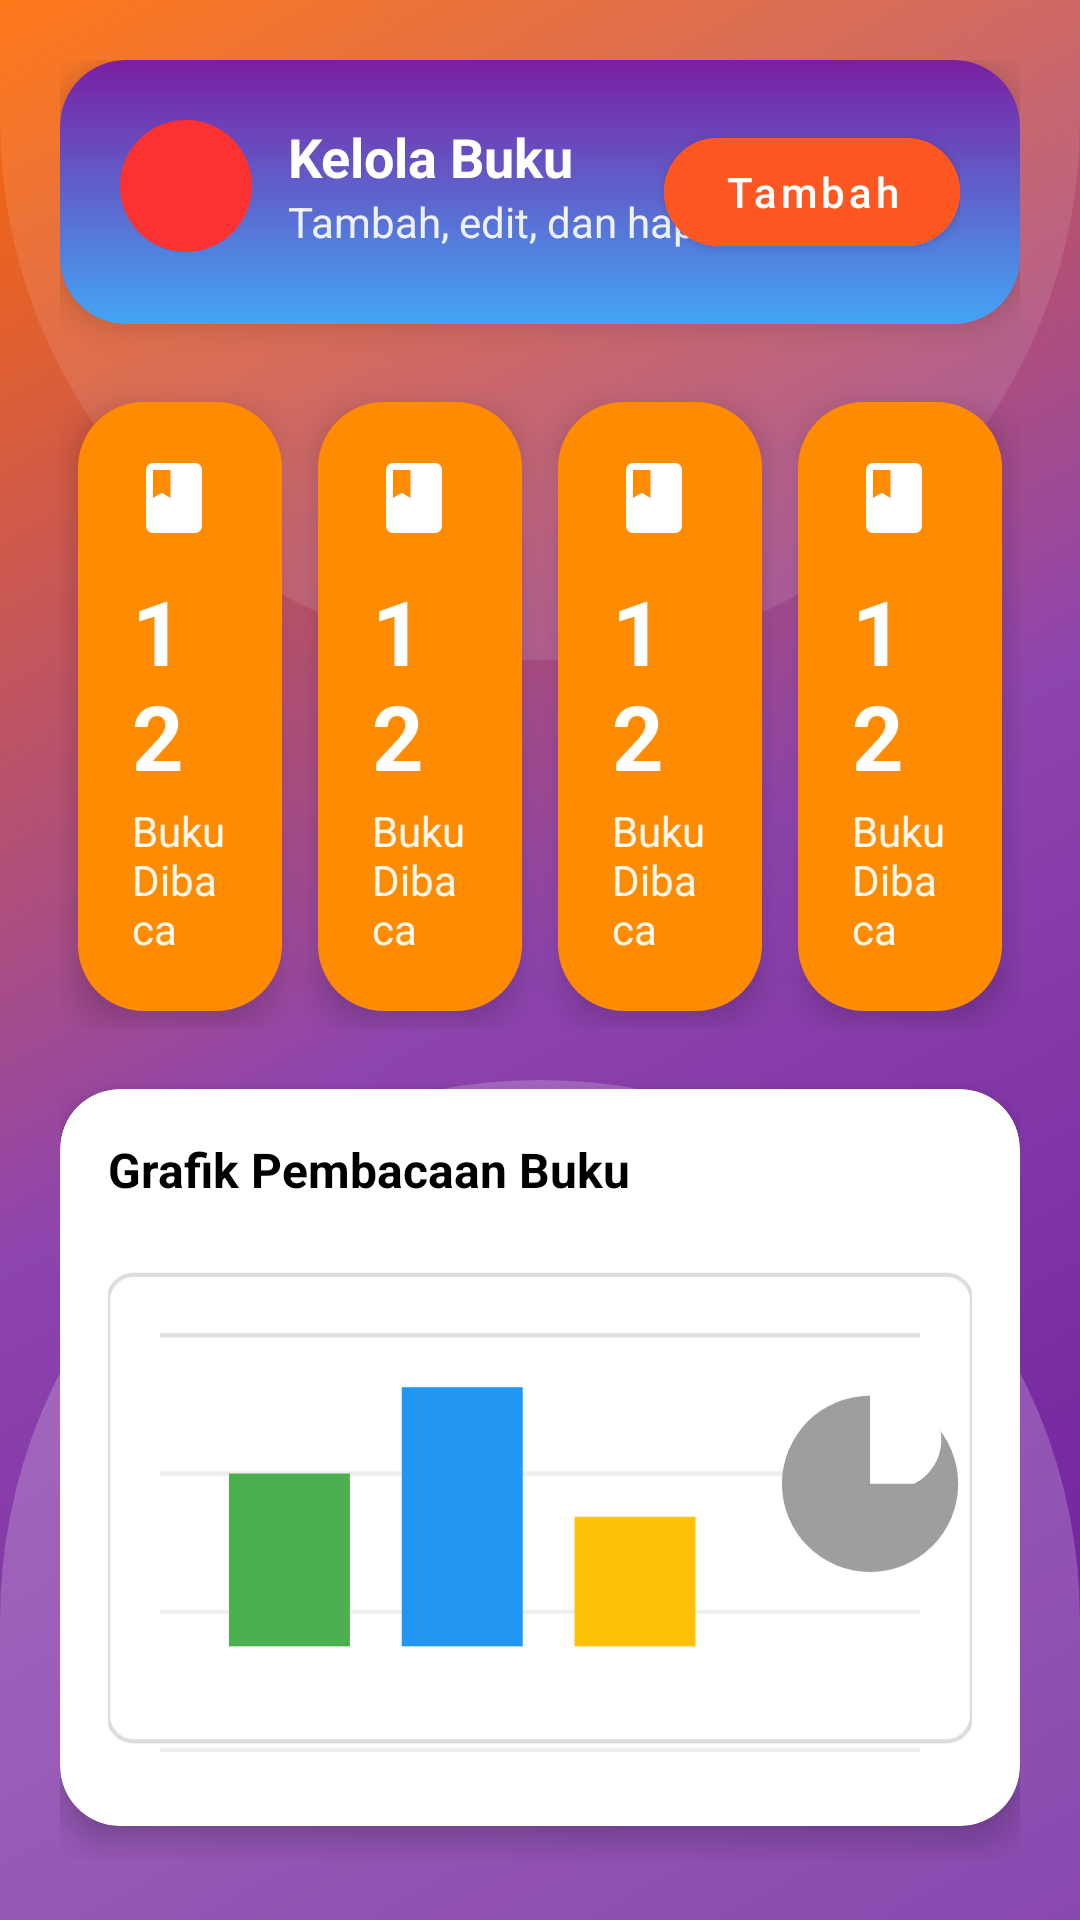

Locate icon controls on the screen. Image size 1080px×1920px, boxes as (x1=x1, y1=y1, x2=x2, y2=y2).
book: (x1=146, y1=463, x2=202, y2=533), (x1=386, y1=463, x2=442, y2=533), (x1=626, y1=463, x2=682, y2=533), (x1=866, y1=463, x2=922, y2=533)
